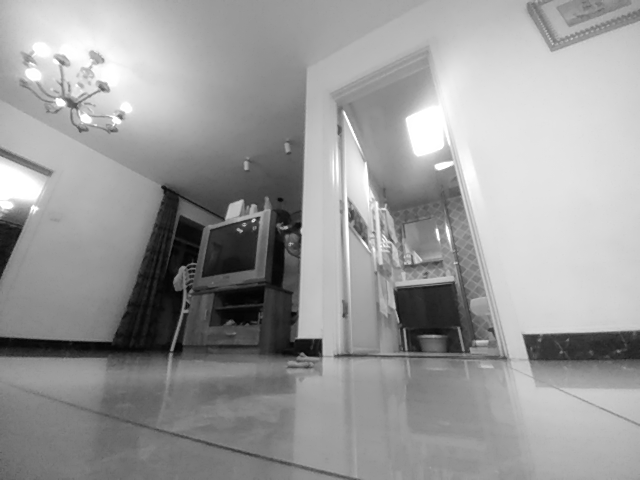curtain: (112, 186, 180, 352)
pet feces: (286, 351, 323, 370)
